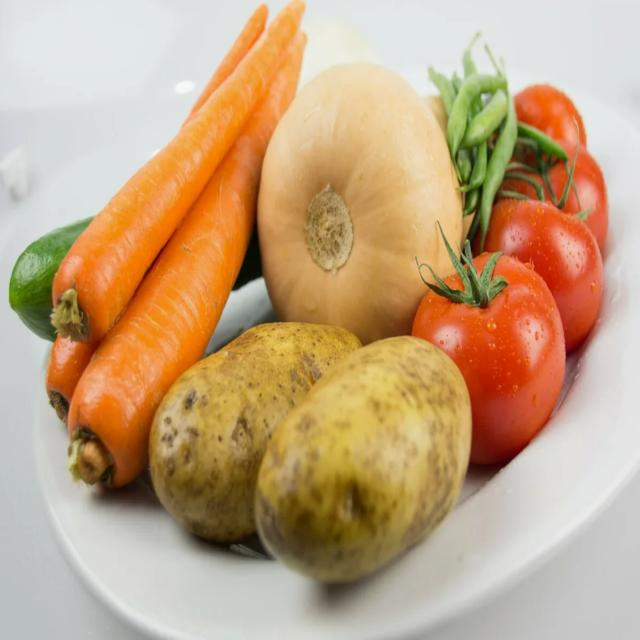carrot: (69, 32, 305, 487), (52, 0, 304, 342), (184, 4, 269, 124)
potato: (255, 336, 471, 582), (149, 323, 361, 541)
tomato: (412, 224, 565, 465), (484, 198, 604, 353), (498, 142, 609, 248), (513, 84, 586, 146)
